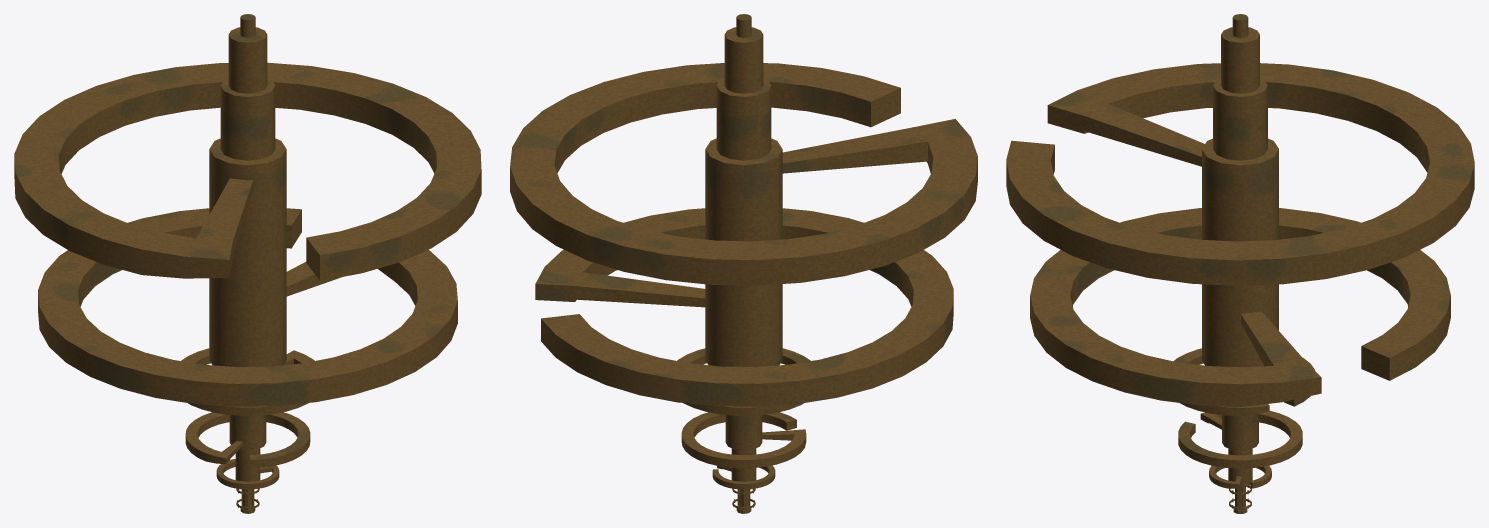
File: Crank.fbx
The picture shows the model from 3 angles, left to right: view 1: azimuth 30°, elevation 25°; view 2: azimuth 150°, elevation 25°; view 3: azimuth 270°, elevation 25°; orthographic projection.
Parts seen in each view (by area): view 1: Crank.002; view 2: Crank.002; view 3: Crank.002.
Boxes of the visible parts, box(x1,y1,x2,y2) form: Crank.002: box(14, 14, 481, 513); Crank.002: box(510, 14, 977, 513); Crank.002: box(1006, 14, 1474, 513).
Size of the model in its own units: 184 by 214 by 184.
1 material, 1 textured.
